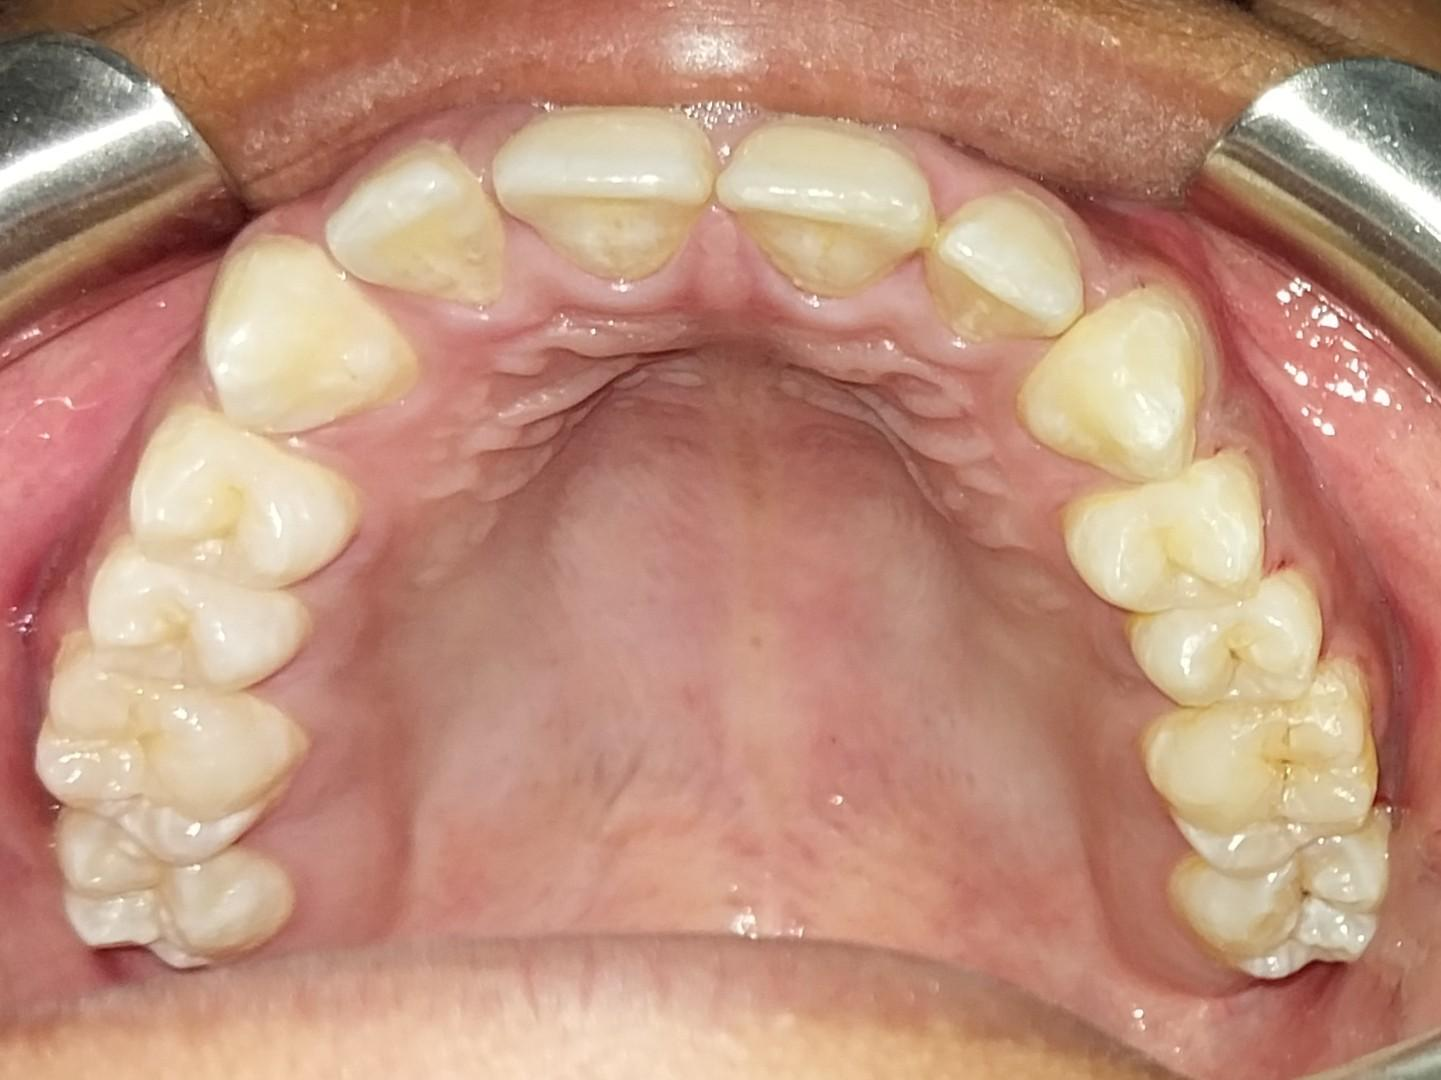D: (1179, 853, 1393, 977)
